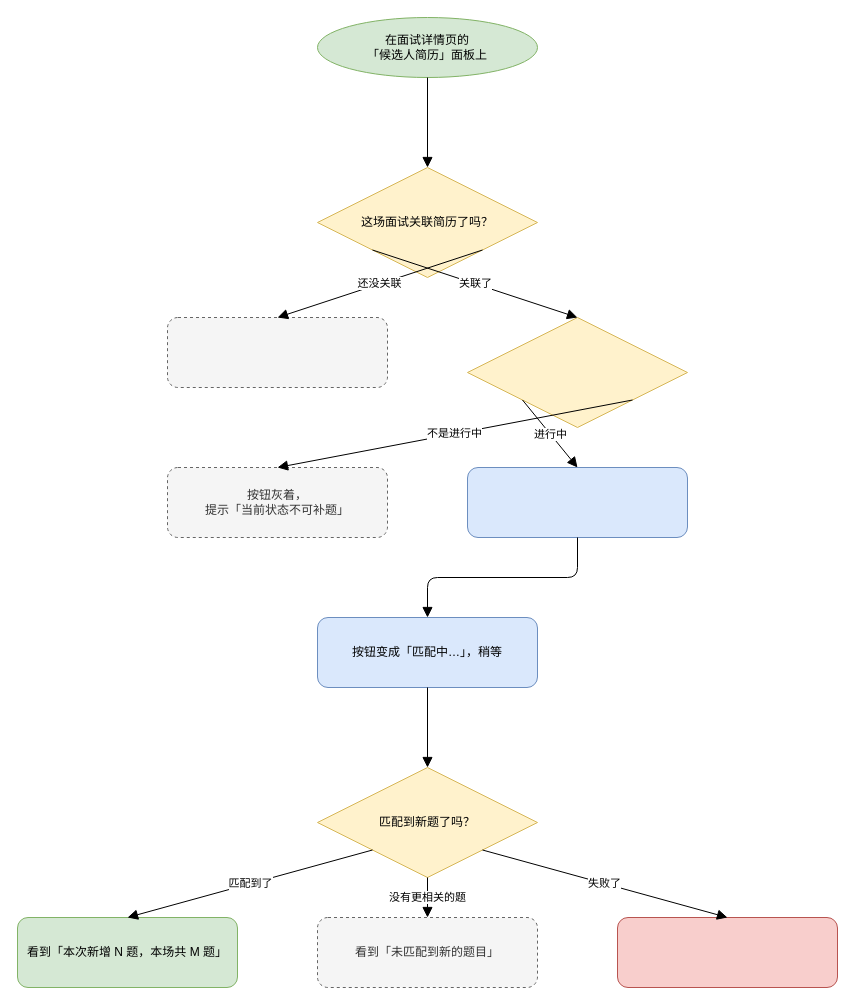
The diagram is 855 pixels wide and 1005 high, and some of its shapes have lost their labels. Here are the shapes that lost their labels. From the top down, the centre of each, then its label:
At point 277,352: "「按简历补题」是灰的， 鼠标停上去看到「该面试尚未关联简历」".
At point 577,372: "面试是「进行中」吗？".
At point 577,502: "点「按简历补题」".
At point 727,952: "看到「题库中没有可补充的题目」 等提示".
